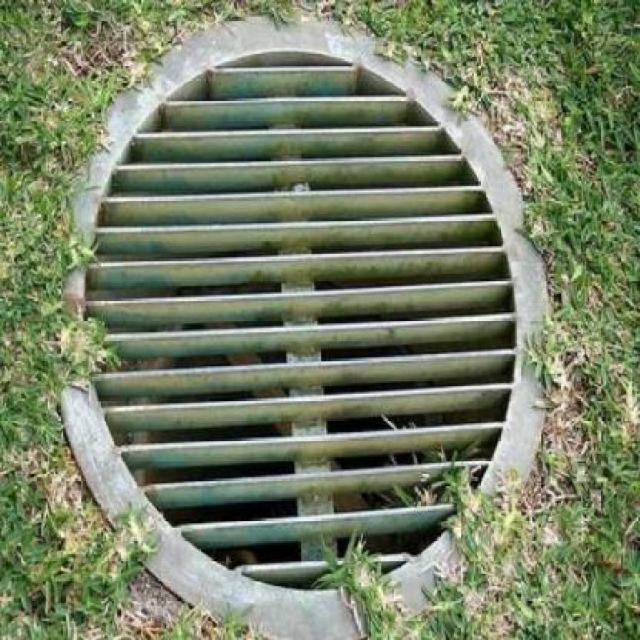Manhole: (35, 9, 568, 636)
